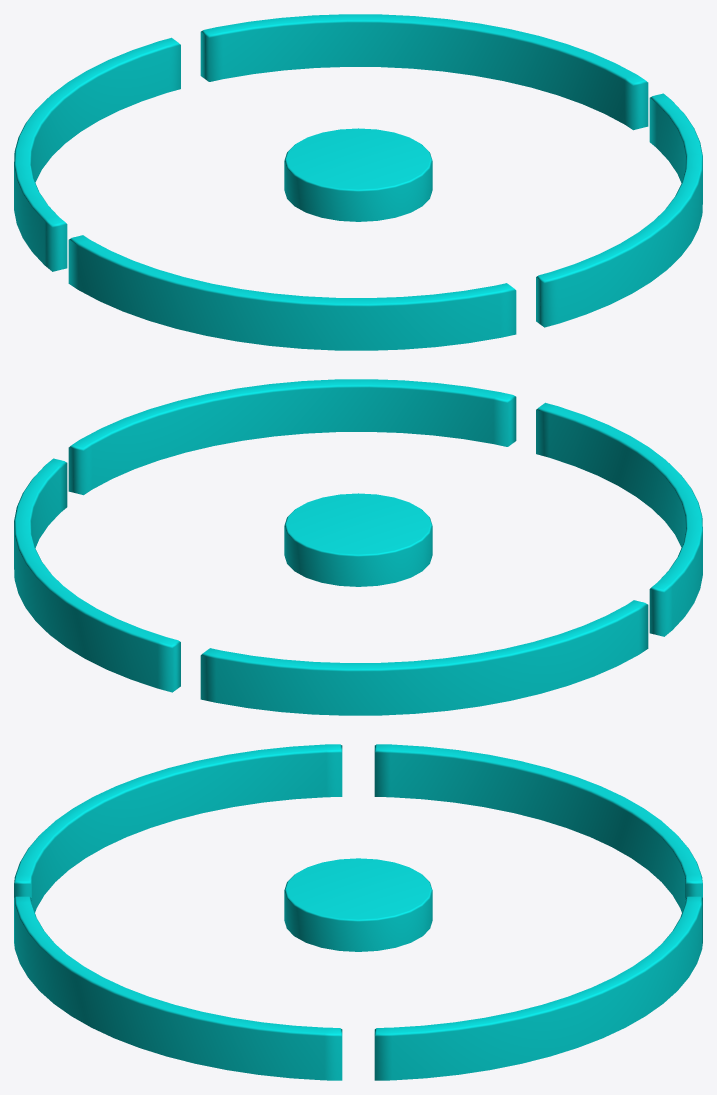
Rendered from WayPoint.fbx.
3 renders of one model, top to bottom at view 1: azimuth 30°, elevation 25°; view 2: azimuth 150°, elevation 25°; view 3: azimuth 270°, elevation 25°, orthographic.
Parts seen in each view (by area): view 1: WayPoint; view 2: WayPoint; view 3: WayPoint.
Part boxes in pixels (x1=…): WayPoint: x1=14, y1=14, x2=702, y2=350; WayPoint: x1=14, y1=379, x2=702, y2=715; WayPoint: x1=14, y1=744, x2=702, y2=1080.
Bounding box in the file's own units: 176 × 13.05 × 176.
